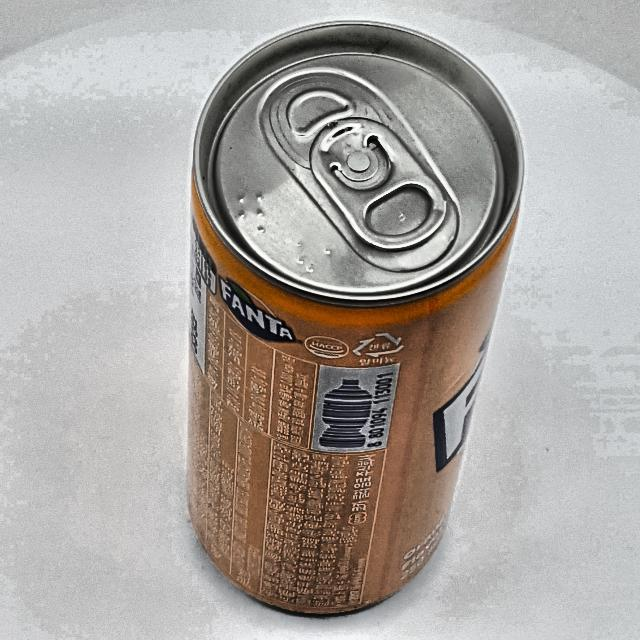fantaorange: (195, 22, 517, 614)
